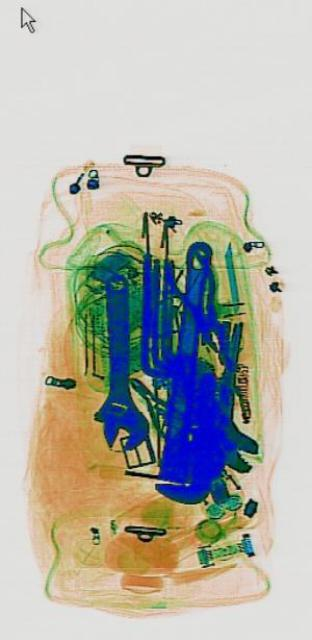Pliers: (160, 223, 234, 373)
Wrench: (88, 270, 147, 452)
